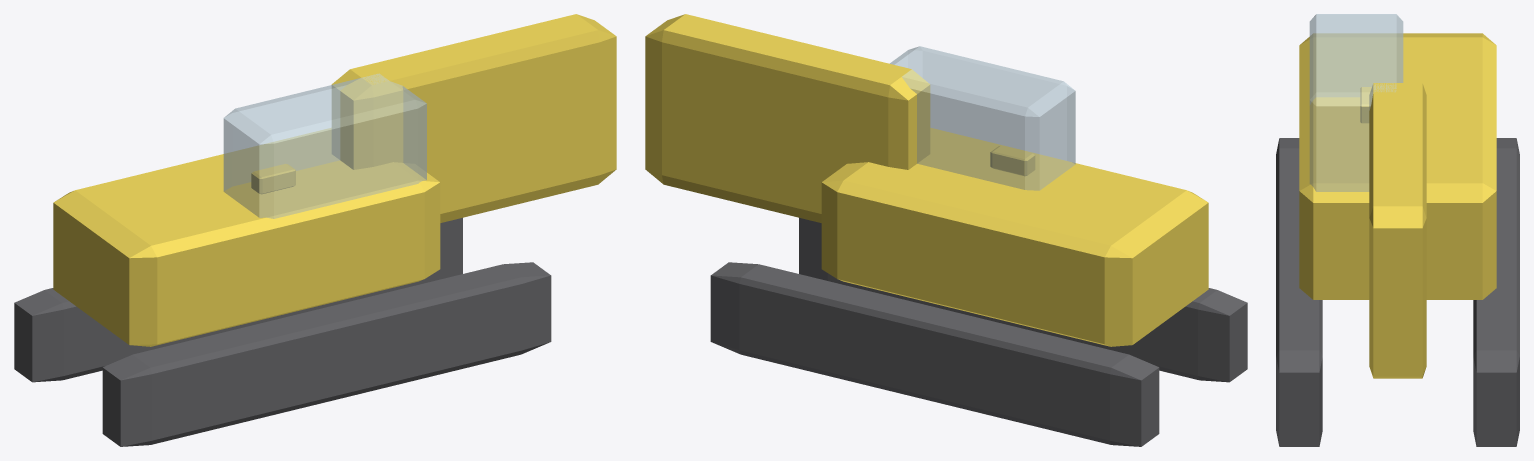
File: b07_cold_planer_road_milling_machine.glb
The picture shows the model from 3 angles, left to right: view 1: azimuth 30°, elevation 25°; view 2: azimuth 150°, elevation 25°; view 3: azimuth 270°, elevation 25°; orthographic projection. The views are drawn at different scales.
Visible parts, largest first — view 1: b07_cold_planer_road_milling_machine; view 2: b07_cold_planer_road_milling_machine; view 3: b07_cold_planer_road_milling_machine.
Part boxes in pixels (box(x1,y1,x2,y2)): b07_cold_planer_road_milling_machine: box(14, 14, 616, 446); b07_cold_planer_road_milling_machine: box(645, 14, 1247, 446); b07_cold_planer_road_milling_machine: box(1276, 14, 1519, 446).
Size of the model in its own units: 6.96 by 3.27 by 2.44.
